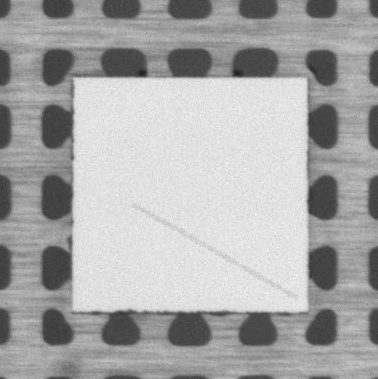DIE_CRACK: (134, 206, 295, 298)
